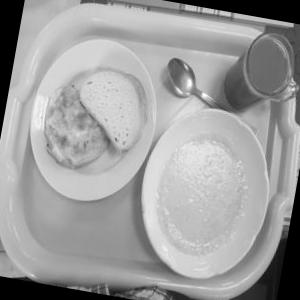bread: (65, 58, 160, 160)
cheese_sandwich: (29, 69, 117, 174)
coffee: (209, 18, 300, 122)
porridge: (139, 112, 273, 282)
